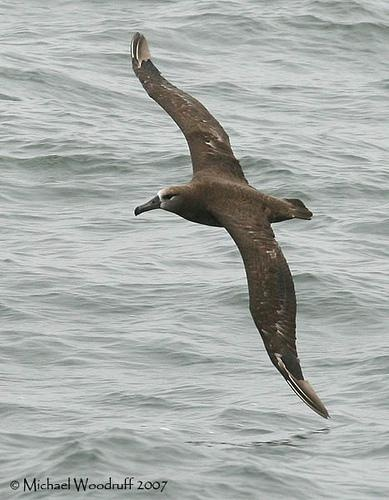bird: (117, 25, 334, 422)
